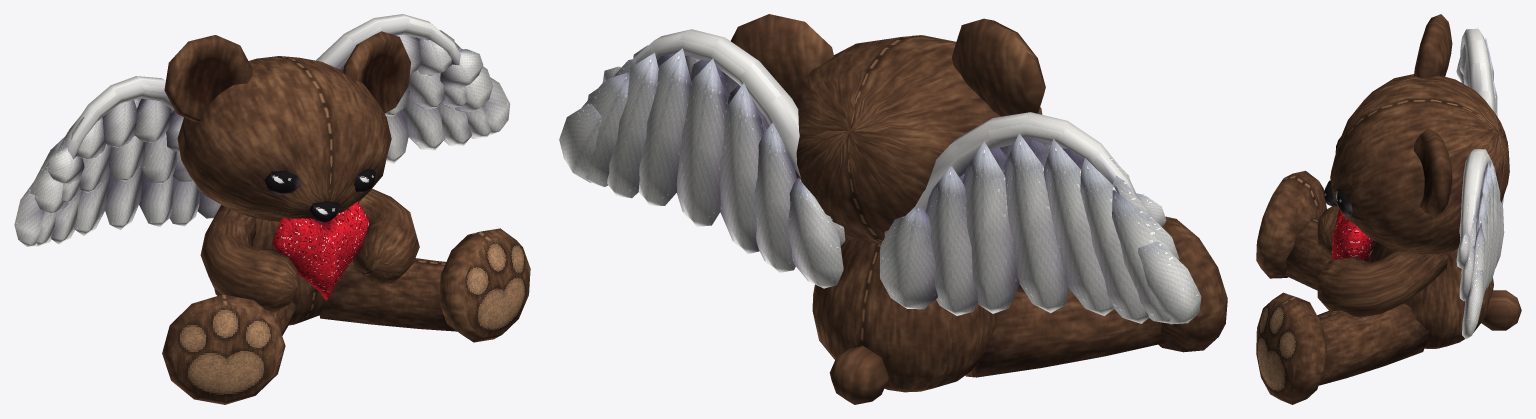
The model's file is angel_bear.glb.
3 views of the same model, side by side, from view 1: azimuth 30°, elevation 25°; view 2: azimuth 150°, elevation 25°; view 3: azimuth 270°, elevation 25° (orthographic). The views are drawn at different scales.
Visible parts, largest first — view 1: Head, Wing.R, Leg.L, Wing.L, Leg.R, Arm.R, Heart, Ear.R, Arm.L, Ear.L, Body, Eye.R (+1 smaller); view 2: Wing.R, Wing.L, Head, Body, Leg.R, Ear.R, Ear.L, Tail; view 3: Head, Leg.L, Leg.R, Wing.L, Arm.L, Body, Ear.L, Wing.R, Ear.R, Heart, Tail, Arm.R (+1 smaller).
Boxes of the visible parts, box(x1,y1,x2,y2) form: Head: box(177, 56, 391, 221); Wing.R: box(14, 76, 220, 246); Leg.L: box(319, 228, 530, 342); Wing.L: box(316, 14, 510, 163); Leg.R: box(162, 294, 296, 404); Arm.R: box(200, 205, 298, 312); Heart: box(272, 201, 369, 300); Ear.R: box(164, 35, 252, 121); Arm.L: box(353, 188, 419, 283); Ear.L: box(343, 31, 411, 113); Body: box(214, 218, 340, 325); Eye.R: box(265, 170, 300, 194); Wing.R: box(880, 112, 1201, 324); Wing.L: box(559, 29, 845, 288); Head: box(789, 35, 1042, 244); Body: box(812, 237, 997, 392); Leg.R: box(965, 216, 1227, 377); Ear.R: box(951, 18, 1045, 116); Ear.L: box(731, 14, 833, 94); Tail: box(829, 346, 888, 404); Head: box(1330, 74, 1509, 254); Leg.L: box(1256, 292, 1428, 404); Leg.R: box(1256, 170, 1373, 290); Wing.L: box(1456, 149, 1504, 338); Arm.L: box(1317, 251, 1447, 317); Body: box(1367, 242, 1493, 348); Ear.L: box(1414, 128, 1452, 217); Wing.R: box(1456, 28, 1504, 205); Ear.R: box(1414, 14, 1452, 78); Heart: box(1331, 209, 1372, 261); Tail: box(1481, 290, 1521, 330); Arm.R: box(1317, 206, 1376, 257).
Size of the model in its own units: 0.8816 by 0.5013 by 0.4232.
Materials: 5 (5 with a texture image).
